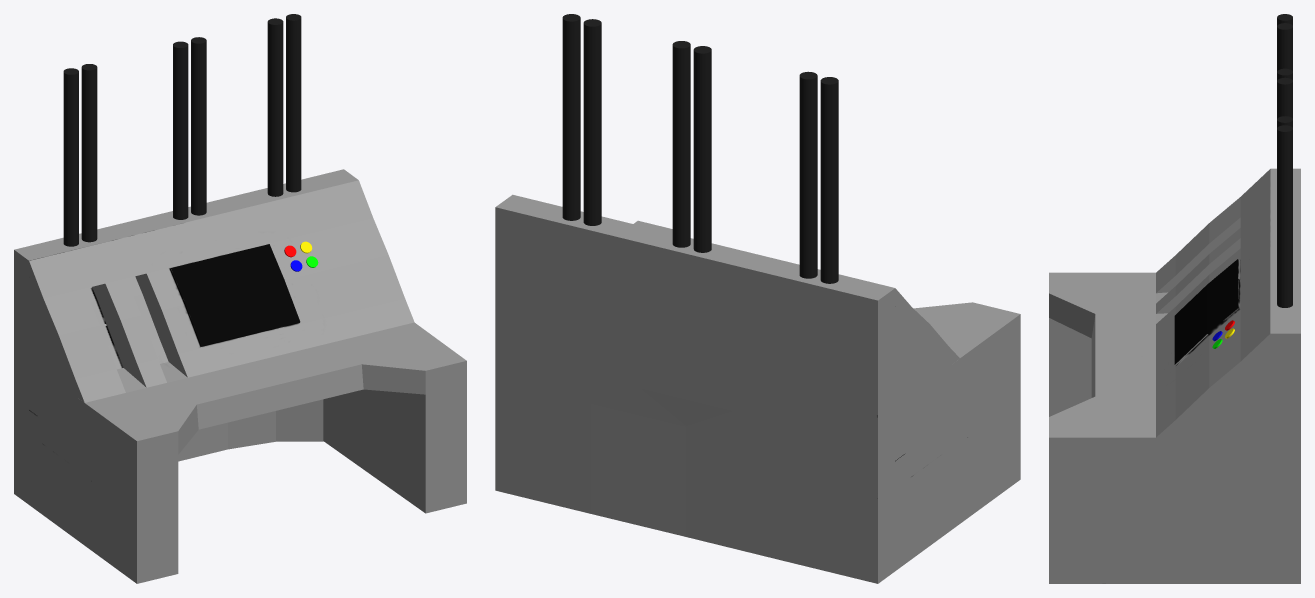
The model's file is PneumaticLarge.fbx.
3 renders of one model, left to right at view 1: azimuth 30°, elevation 25°; view 2: azimuth 150°, elevation 25°; view 3: azimuth 270°, elevation 25°, orthographic. The views are drawn at different scales.
Parts seen in each view (by area): view 1: Cube, Cylinder.004, Cylinder.008, Cylinder.006; view 2: Cube, Cylinder.006, Cylinder.004, Cylinder.008; view 3: Cube, Cylinder.004, Cylinder.008, Cylinder.006.
Boxes of the visible parts, x1,y1,x2,y2 form: Cube: (14, 169, 466, 583); Cylinder.004: (267, 14, 301, 196); Cylinder.008: (63, 64, 97, 246); Cylinder.006: (173, 37, 206, 219); Cube: (495, 194, 1020, 583); Cylinder.006: (672, 41, 711, 252); Cylinder.004: (562, 14, 601, 225); Cylinder.008: (799, 71, 838, 283); Cube: (1049, 168, 1300, 583); Cylinder.004: (1277, 116, 1292, 307); Cylinder.008: (1277, 14, 1292, 71); Cylinder.006: (1277, 68, 1292, 118).
Bounding box in the file's own units: 295 × 355 × 190.
Materials: 8 (1 with a texture image).
